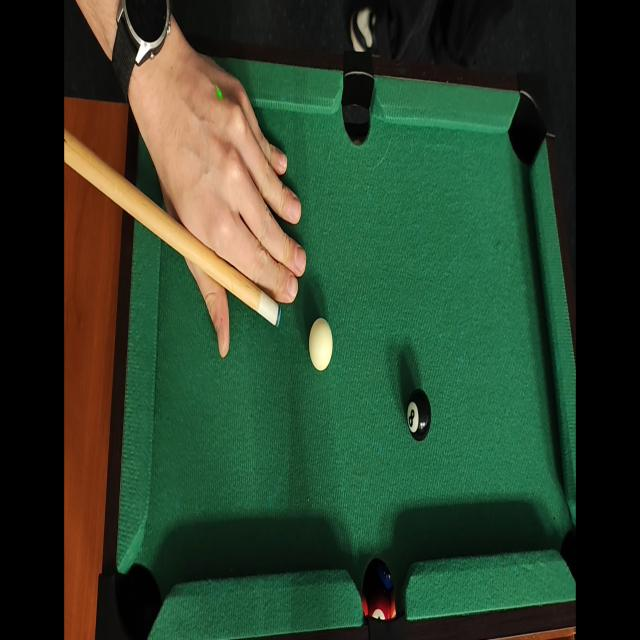cue ball: (306, 315, 335, 377)
other: (401, 382, 434, 446)
